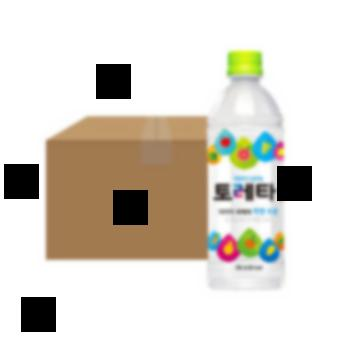toreta: (204, 45, 292, 290)
